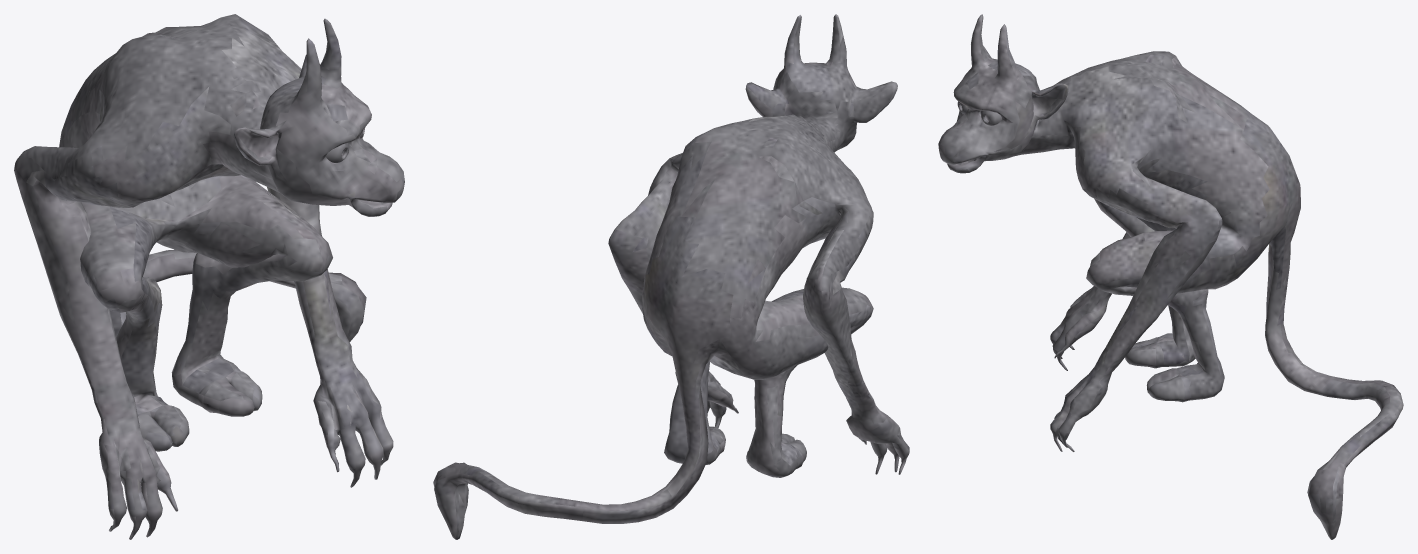
Rendered from creature-gargoyle-mobile.glb.
3 renders of one model, left to right at view 1: azimuth 30°, elevation 25°; view 2: azimuth 150°, elevation 25°; view 3: azimuth 270°, elevation 25°, orthographic. The views are drawn at different scales.
Visible parts, largest first — view 1: creature-gargoyle; view 2: creature-gargoyle; view 3: creature-gargoyle.
Boxes of the visible parts, box(x1,y1,x2,y2) form: creature-gargoyle: box(14, 14, 404, 539); creature-gargoyle: box(433, 14, 909, 539); creature-gargoyle: box(938, 14, 1403, 539).
Size of the model in its own units: 1.28 by 1.6 by 1.56.
1 material, 1 textured.
